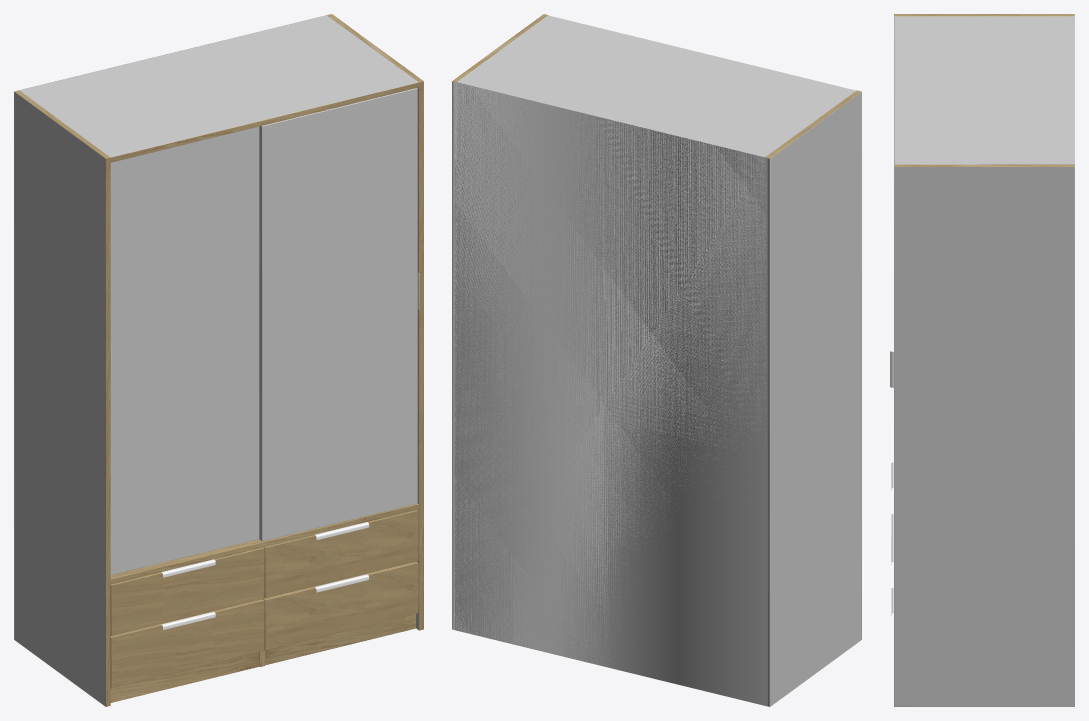
3 views of the same model, side by side, from view 1: azimuth 30°, elevation 25°; view 2: azimuth 150°, elevation 25°; view 3: azimuth 270°, elevation 25° (orthographic).
Parts seen in each view (by area): view 1: frame_3, door01.001_0, door02.001_1, drawers.001_2; view 2: frame_3; view 3: frame_3, drawers.001_2.
Part boxes in pixels (bbox=[...]): frame_3: bbox=[14, 14, 423, 706]; door01.001_0: bbox=[259, 88, 419, 541]; door02.001_1: bbox=[110, 126, 259, 575]; drawers.001_2: bbox=[110, 509, 418, 688]; frame_3: bbox=[452, 14, 861, 706]; frame_3: bbox=[894, 14, 1074, 706]; drawers.001_2: bbox=[891, 462, 893, 616].
Bounding box in the file's own units: 1.22 × 2.01 × 0.6228.
Materials: 3 (1 with a texture image).
